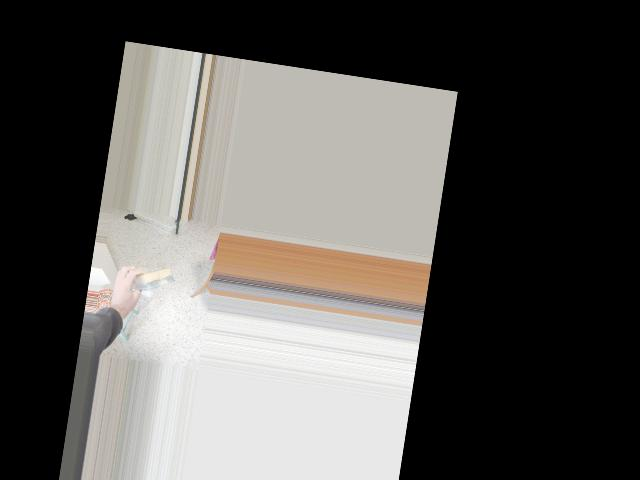cheese: (121, 257, 179, 300)
